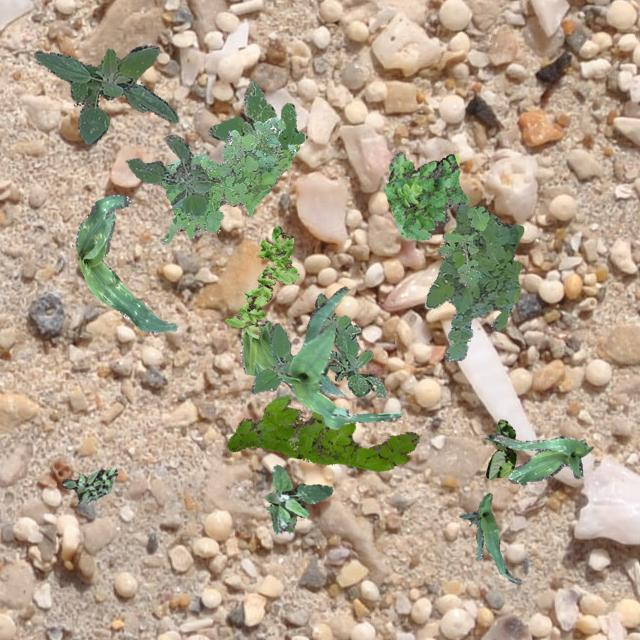crop: (276, 286, 402, 428), (74, 194, 176, 332), (240, 320, 342, 394), (458, 492, 520, 584), (484, 434, 592, 484), (484, 418, 516, 478)
weed: (151, 116, 299, 244), (423, 200, 522, 360), (227, 394, 418, 471), (32, 44, 178, 144), (250, 292, 386, 398), (224, 225, 298, 338), (382, 150, 468, 240), (208, 78, 304, 150), (125, 134, 208, 215), (264, 464, 330, 534), (438, 205, 488, 288), (61, 466, 117, 502)
